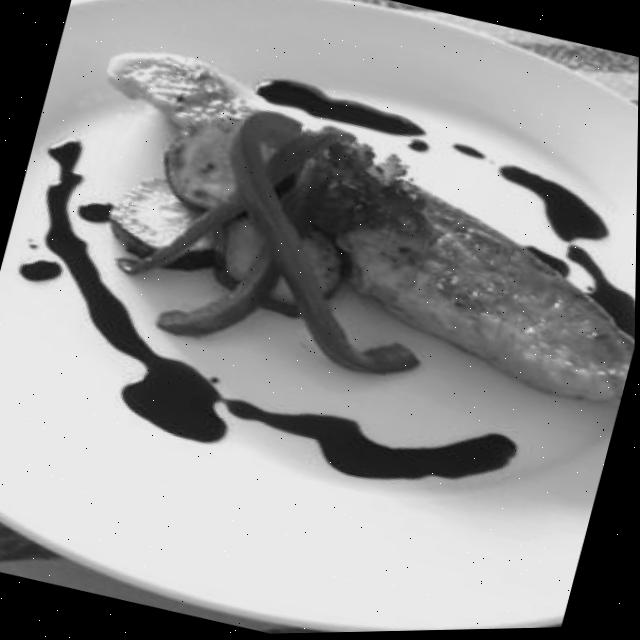熟制海鲜: (15, 11, 640, 430)
